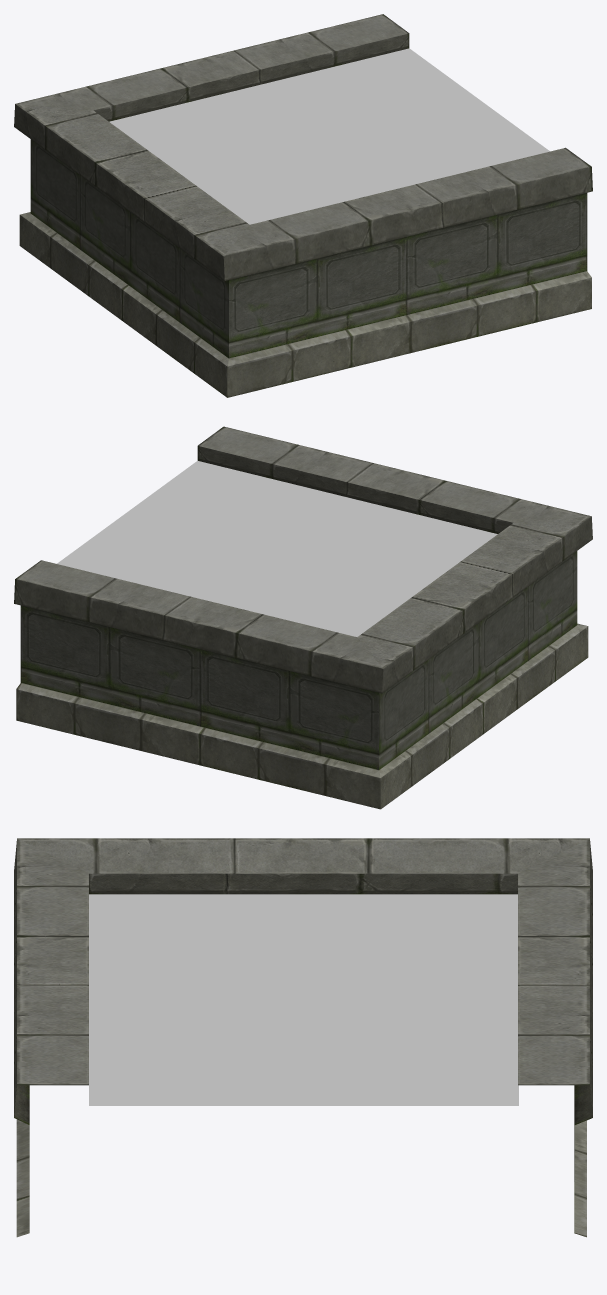
File: JiaYeSi_HuaTanZu_1.FBX
The picture shows the model from 3 angles, top to bottom: view 1: azimuth 30°, elevation 25°; view 2: azimuth 150°, elevation 25°; view 3: azimuth 270°, elevation 25°; orthographic projection. The views are drawn at different scales.
Visible parts, largest first — view 1: JiaYeSi_HuaTanZu_1a, JiaYeSi_HuaTanZu_1b; view 2: JiaYeSi_HuaTanZu_1a, JiaYeSi_HuaTanZu_1b; view 3: JiaYeSi_HuaTanZu_1b, JiaYeSi_HuaTanZu_1a.
Part boxes in pixels (<box>): JiaYeSi_HuaTanZu_1a: <box>14,14,592,397</box>; JiaYeSi_HuaTanZu_1b: <box>109,48,549,224</box>; JiaYeSi_HuaTanZu_1a: <box>14,426,592,809</box>; JiaYeSi_HuaTanZu_1b: <box>57,460,497,636</box>; JiaYeSi_HuaTanZu_1b: <box>89,894,518,1105</box>; JiaYeSi_HuaTanZu_1a: <box>14,838,592,1237</box>.
Bounding box in the file's own units: 651 × 240 × 645.
